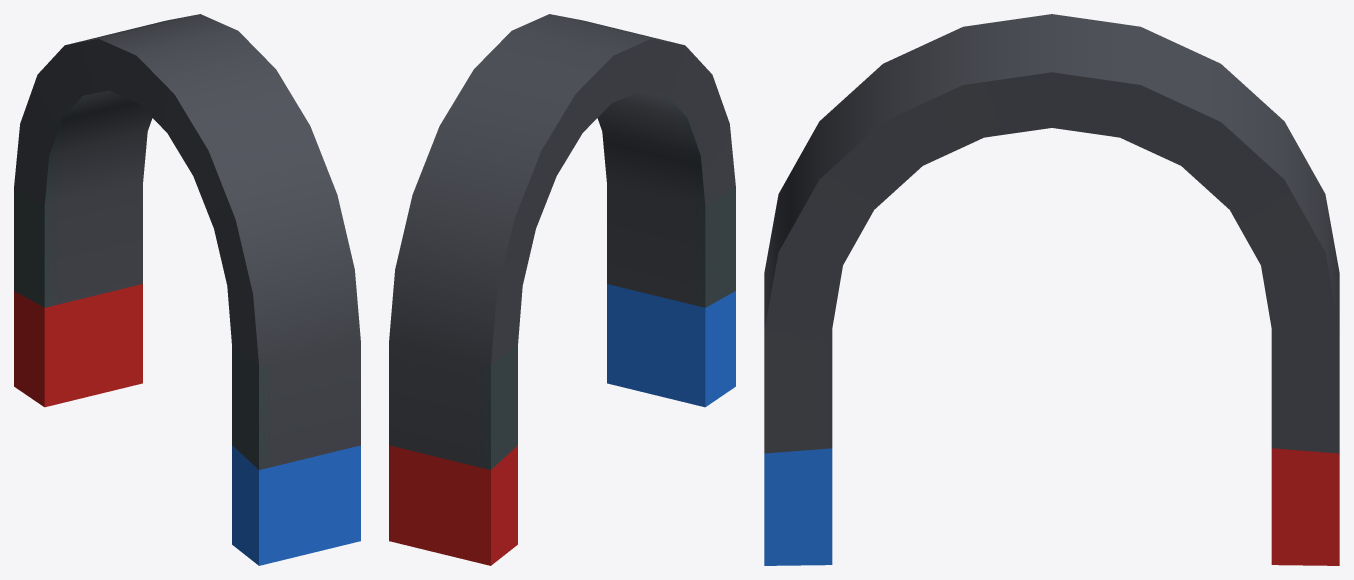
Rendered from magnet.fbx.
3 renders of one model, left to right at view 1: azimuth 30°, elevation 25°; view 2: azimuth 150°, elevation 25°; view 3: azimuth 270°, elevation 25°, orthographic. The views are drawn at different scales.
Parts seen in each view (by area): view 1: magnet; view 2: magnet; view 3: magnet.
Boxes of the visible parts, x1=… form: magnet: x1=14, y1=14, x2=360, y2=565; magnet: x1=389, y1=14, x2=735, y2=565; magnet: x1=764, y1=14, x2=1339, y2=565.
Bounding box in the file's own units: 1.36 × 5.36 × 5.65.
Materials: 1 (1 with a texture image).
